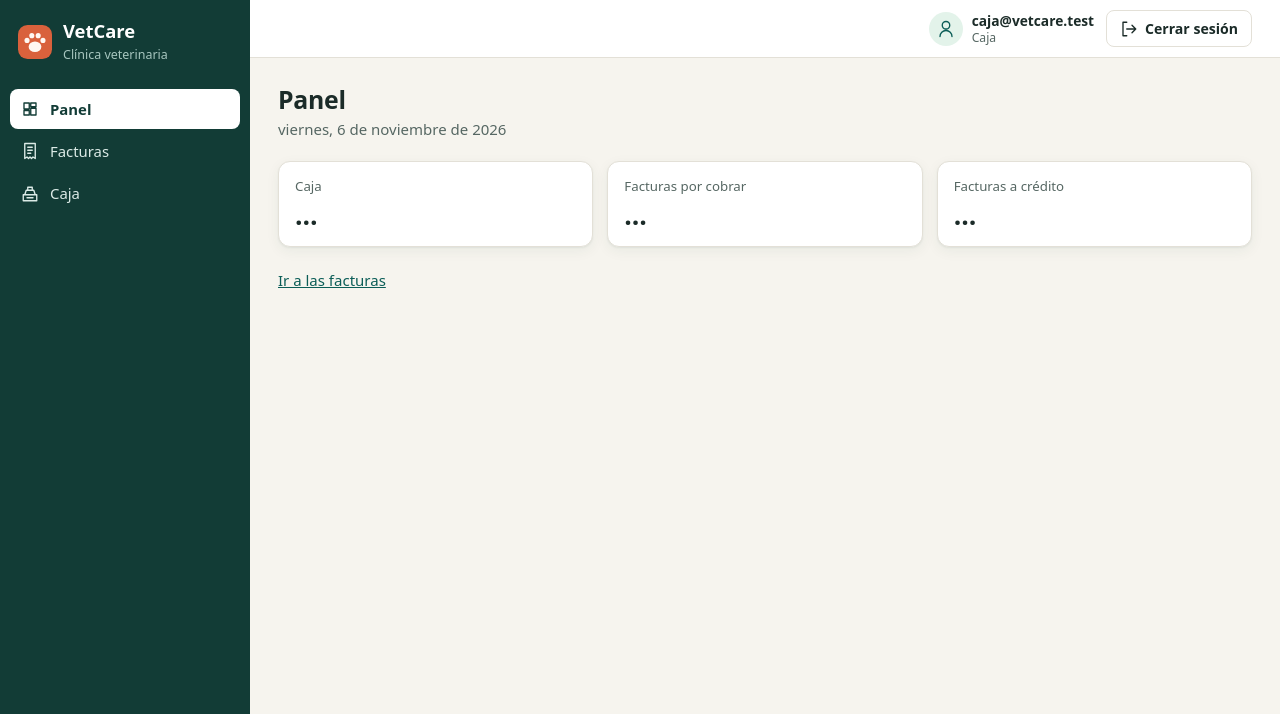
Test: Navegación con sesión › vuelve al inicio al cerrar sesión
This screenshot has width=1280, height=714.
Click the button "Cerrar sesión". click: click(1179, 29)
box: [1106,10,1252,47]
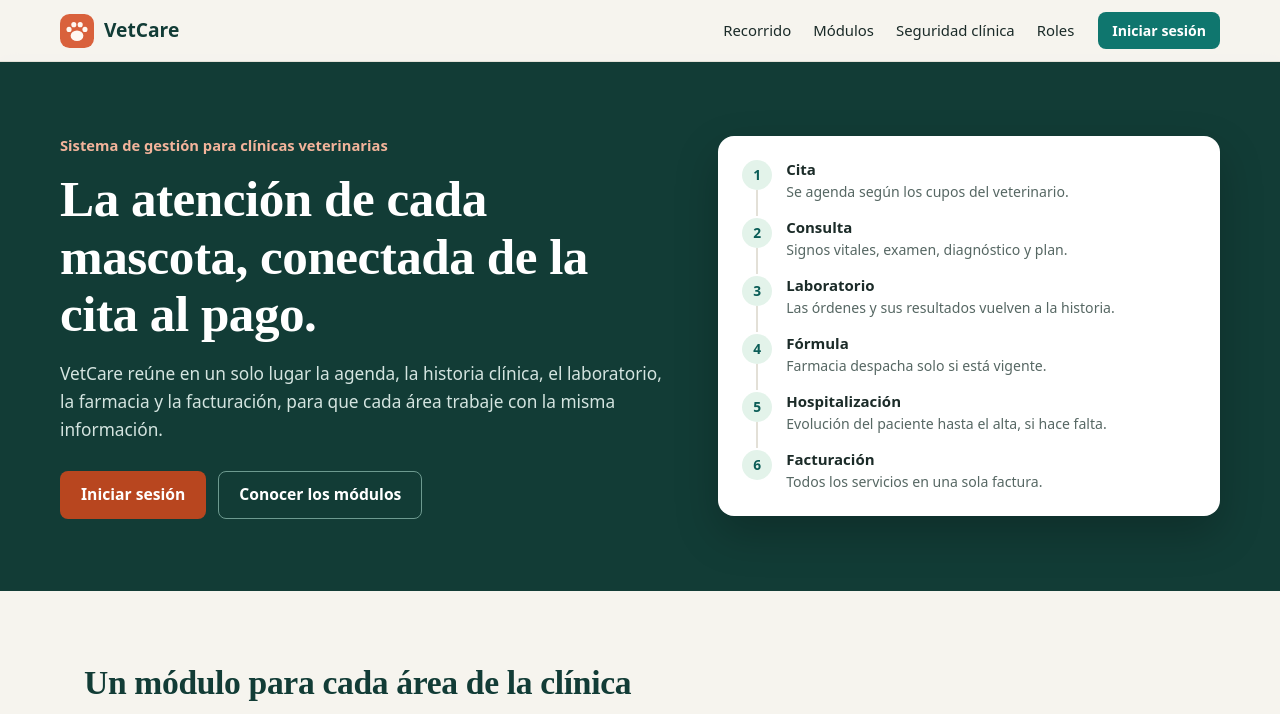
Now the heading "La atención de cada mascota, conectada de la cita al pago." is shown, box [60,170,662,342]
